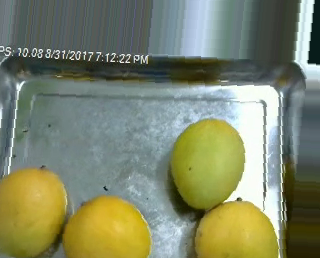Mango: (170, 118, 243, 206), (0, 166, 68, 257), (62, 196, 150, 255), (194, 200, 279, 257)
